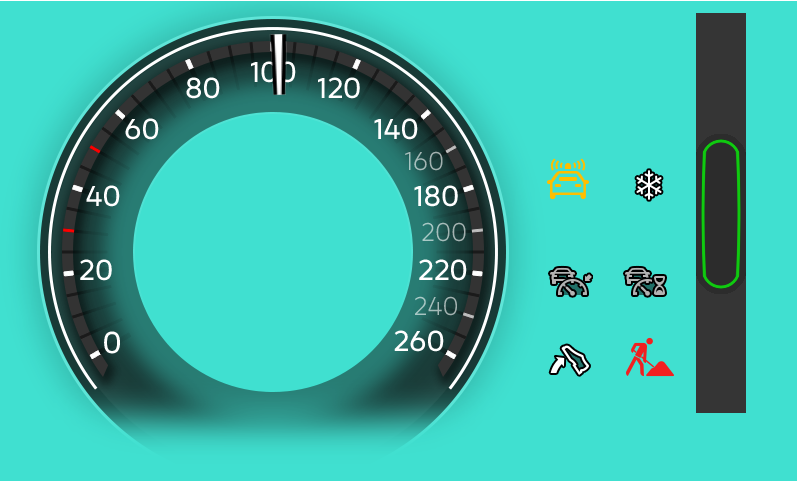ACCELERATOR: (546, 337, 597, 381)
ACC_AKTIV: (542, 258, 595, 300)
ACC_WAITING: (618, 263, 672, 299)
CONSTRUCTION: (623, 330, 680, 379)
EISSTERN: (633, 164, 670, 205)
SEV_INF: (545, 153, 593, 205)
SLIDER: (698, 133, 747, 295)
TUBE: (22, 14, 520, 480)
